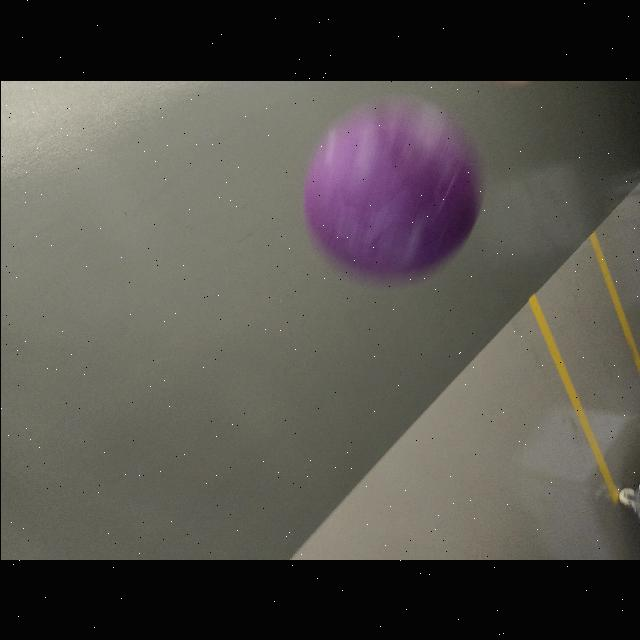P: (300, 95, 484, 281)
